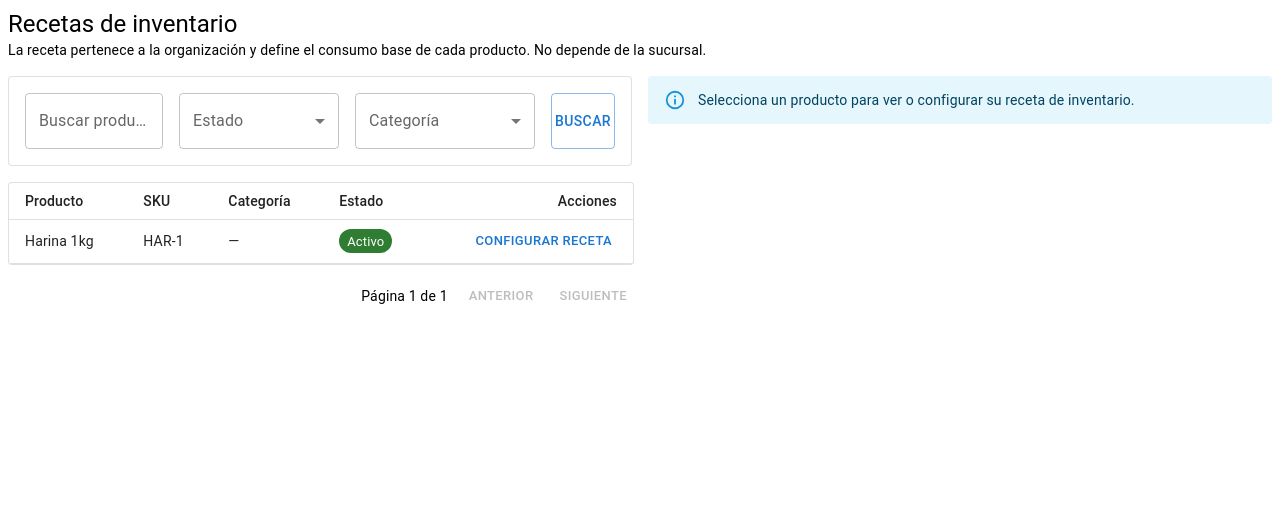
Test: RecipesPage › loads an existing recipe and saves exact decimal strings with the response version
This screenshot has width=1280, height=519.
Expected: the text "Harina 1kg" is shown, [9, 220, 127, 263]
Click the button "Configurar receta" at (544, 241), box [470, 226, 617, 257]
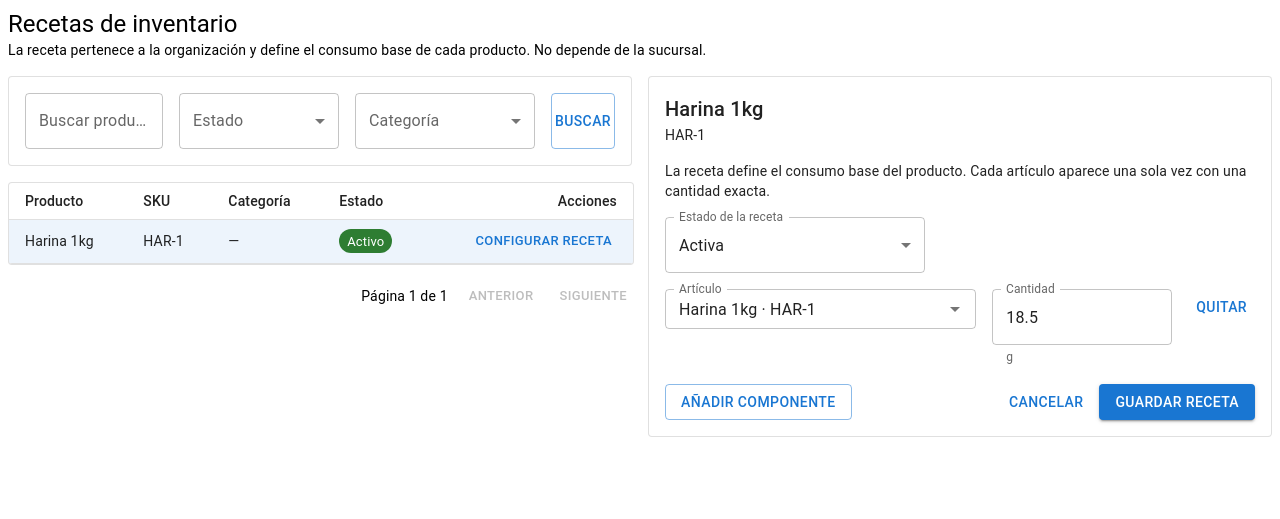
Expected: the field labelled "Cantidad" holds "18.5"
Replace the text in the field labelled "Cantidad" with "20" at (1082, 317), box [992, 289, 1172, 345]
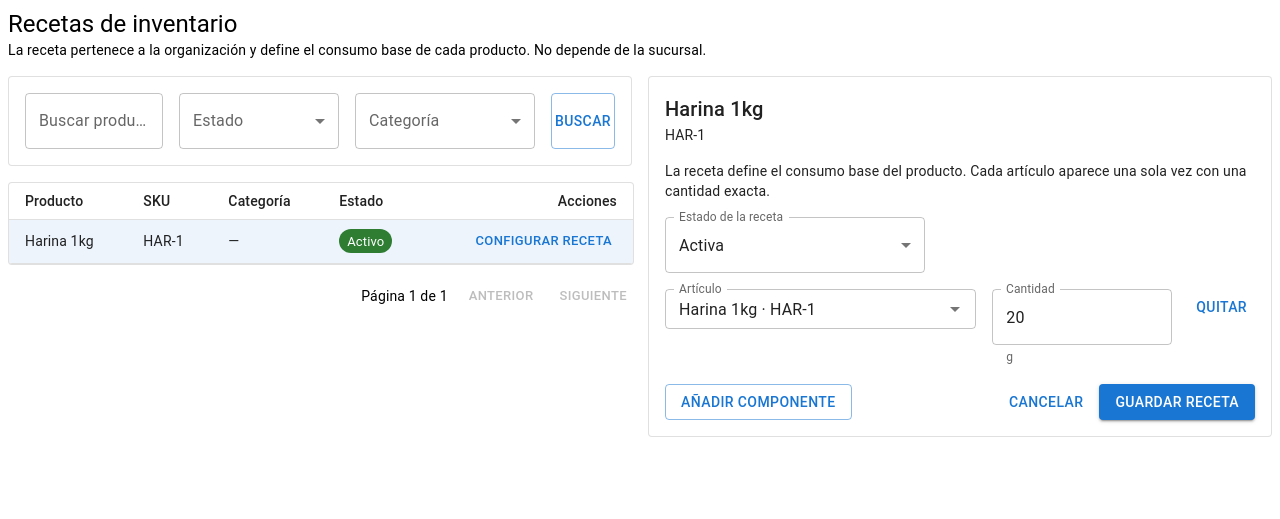
Click the button "Guardar receta" at (1177, 402), box [1099, 384, 1255, 420]
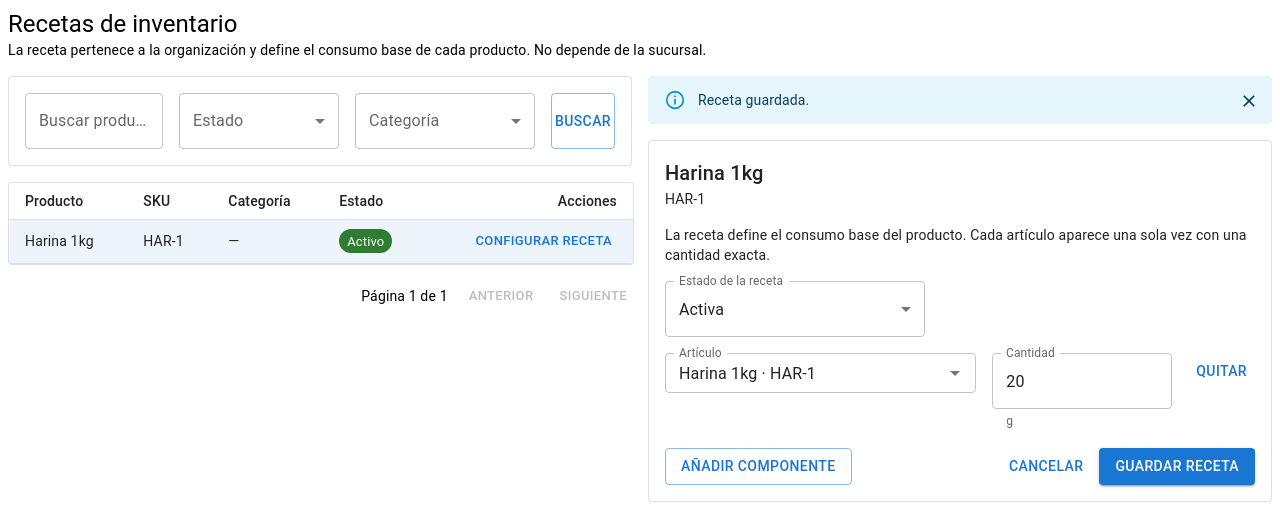
Expected: the text "Receta guardada." is shown, [698, 92, 809, 108]
